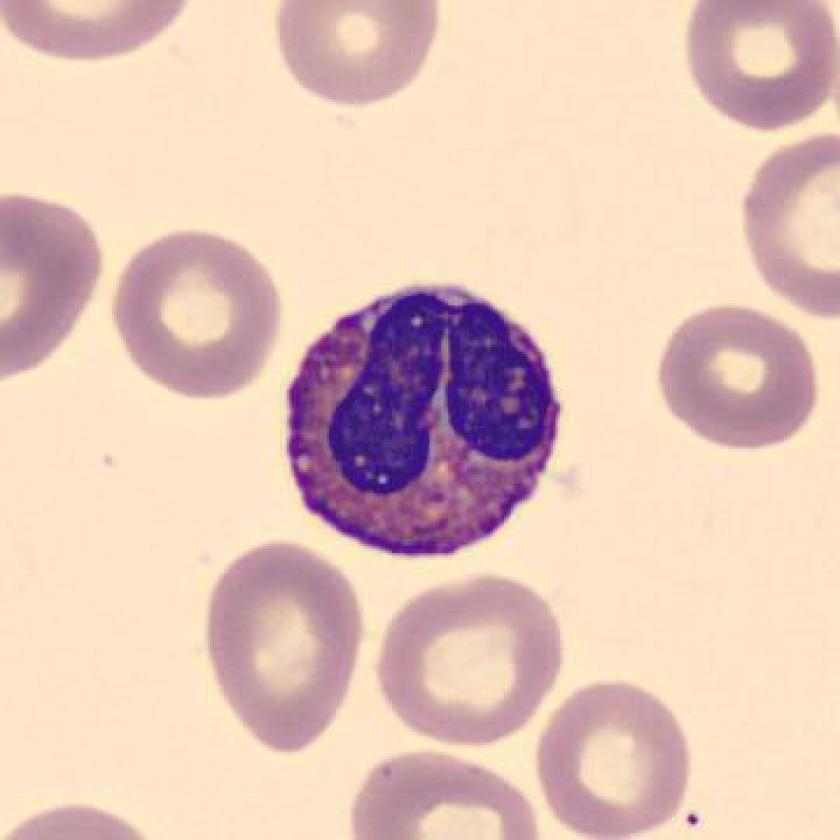eosinophil: (267, 267, 575, 575)
